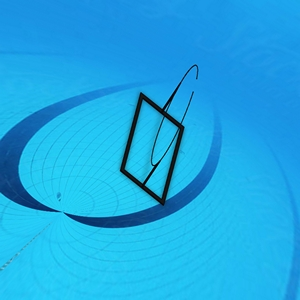circle: (119, 62, 199, 209)
